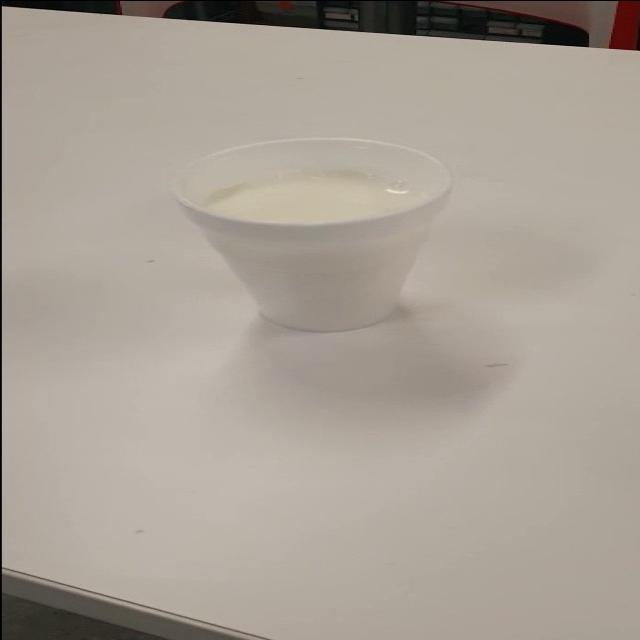Milk: (151, 110, 498, 336)
